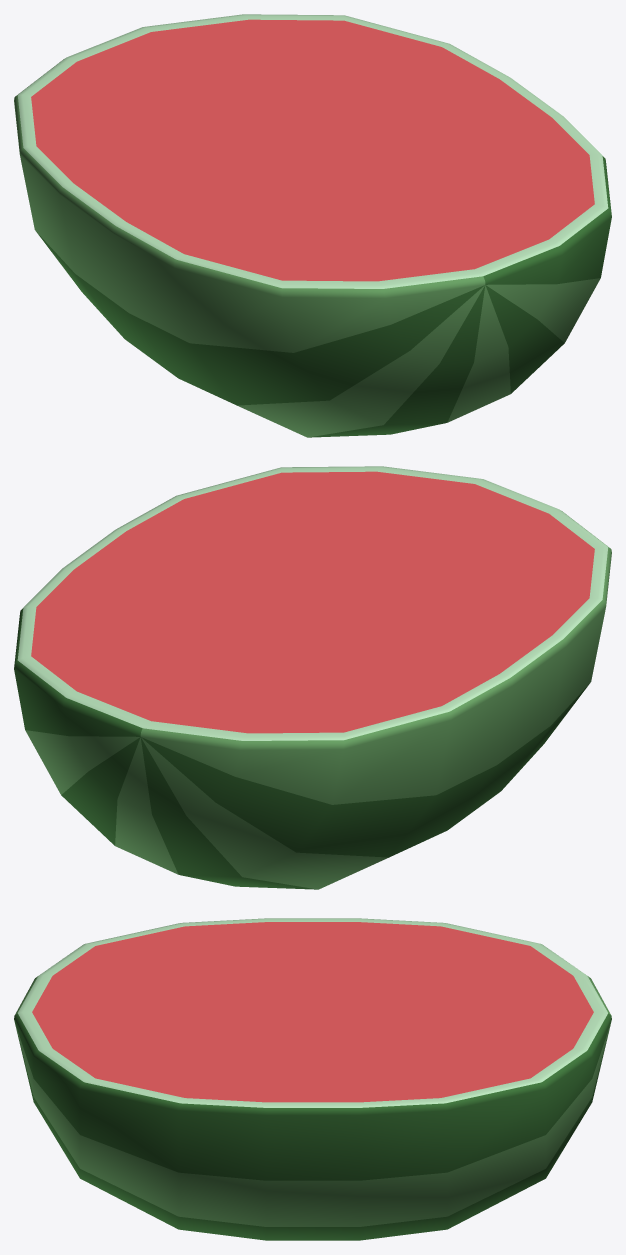
File: watermelon-half.fbx
The picture shows the model from 3 angles, top to bottom: view 1: azimuth 30°, elevation 25°; view 2: azimuth 150°, elevation 25°; view 3: azimuth 270°, elevation 25°; orthographic projection. The views are drawn at different scales.
Visible parts, largest first — view 1: Watermelon; view 2: Watermelon; view 3: Watermelon.
Part boxes in pixels (<box>): Watermelon: <box>14,14,611,437</box>; Watermelon: <box>14,466,611,889</box>; Watermelon: <box>14,918,611,1240</box>.
Bounding box in the file's own units: 29.9 × 15.06 × 39.38.
